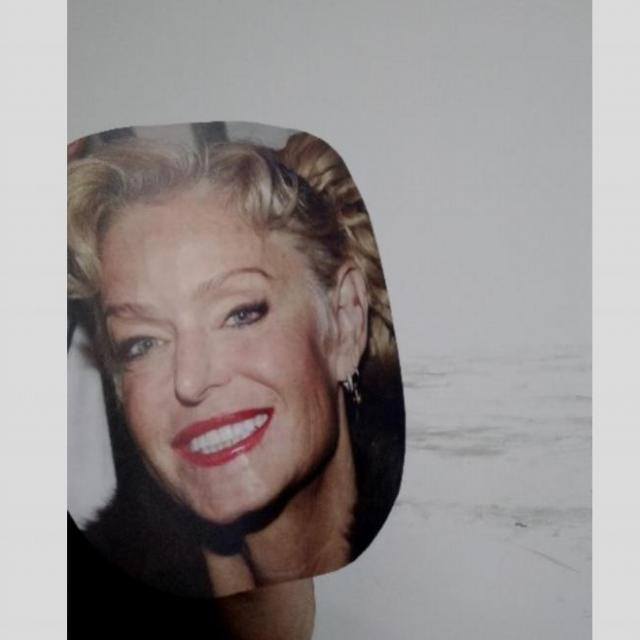photo: (69, 116, 408, 604)
